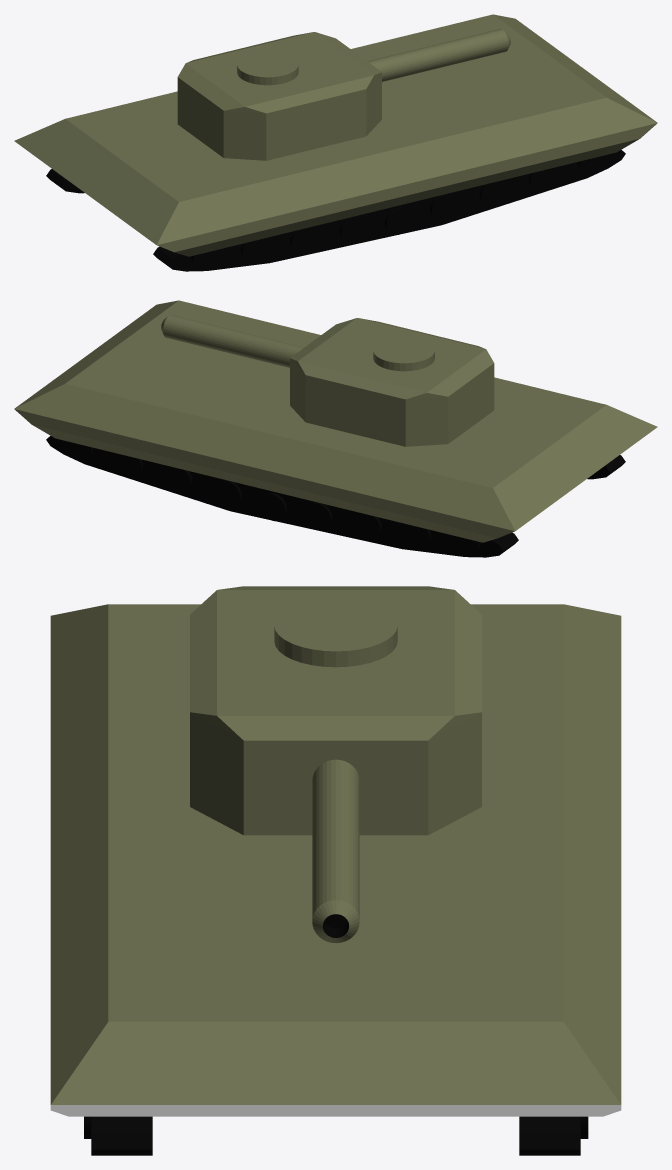
Rendered from Tank.fbx.
3 views of the same model, one above another, from view 1: azimuth 30°, elevation 25°; view 2: azimuth 150°, elevation 25°; view 3: azimuth 270°, elevation 25° (orthographic). The views are drawn at different scales.
Visible parts, largest first — view 1: Body, Turret, Tracks; view 2: Body, Turret, Tracks; view 3: Body, Turret, Tracks.
Part boxes in pixels (x1=…): Body: x1=14, y1=14, x2=657, y2=256; Turret: x1=177, y1=28, x2=510, y2=160; Tracks: x1=46, y1=150, x2=625, y2=271; Body: x1=14, y1=300, x2=657, y2=542; Turret: x1=161, y1=314, x2=494, y2=446; Tracks: x1=46, y1=436, x2=625, y2=557; Body: x1=50, y1=604, x2=621, y2=1116; Turret: x1=190, y1=586, x2=481, y2=942; Tracks: x1=84, y1=1116, x2=588, y2=1155.
Bounding box in the file's own units: 1218 × 334 × 600.
